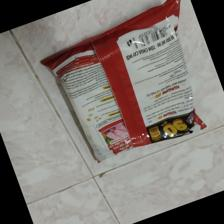Kokomi: (37, 1, 206, 166)
